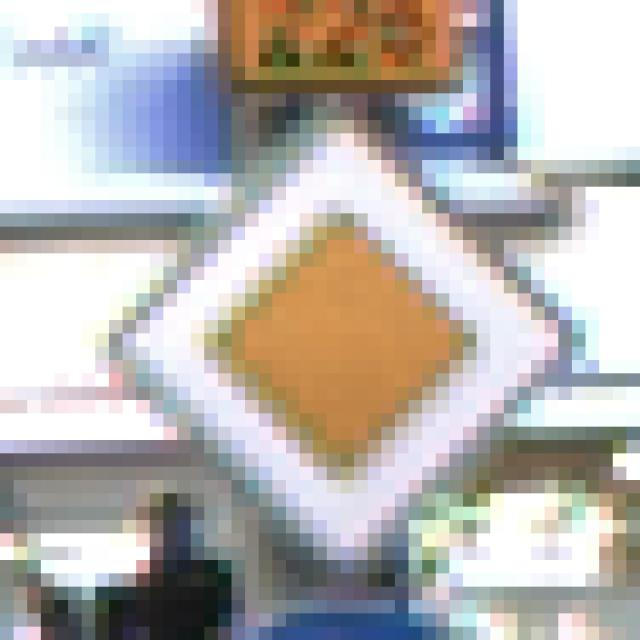Main Road: (83, 68, 573, 561)
